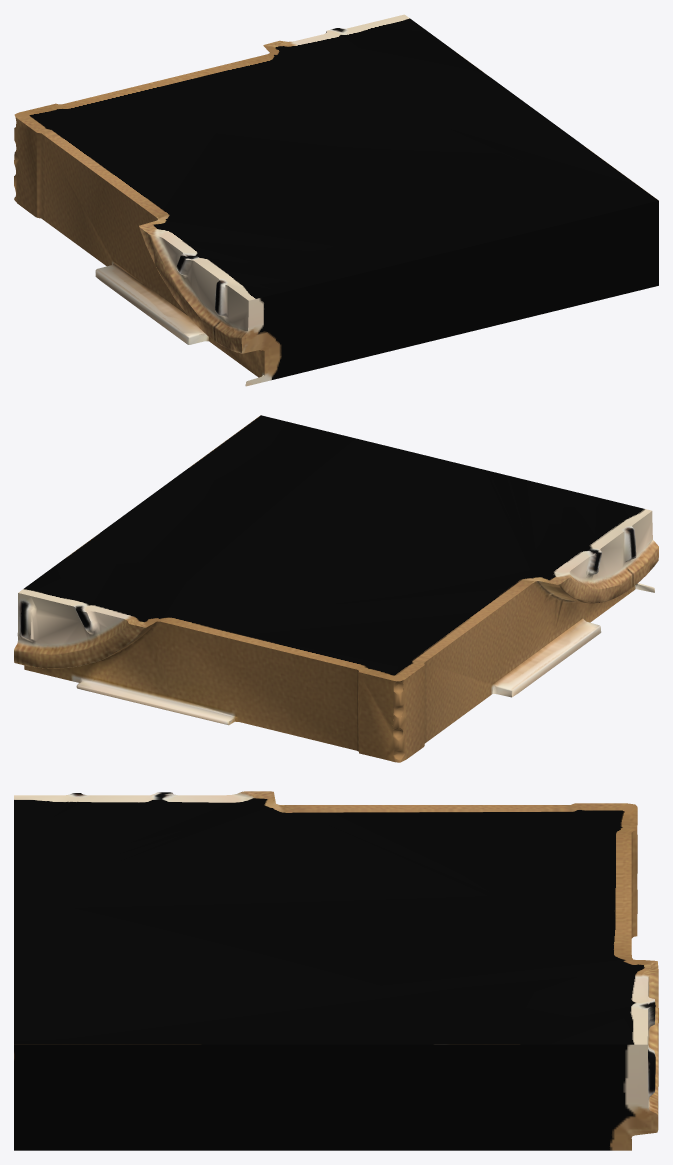
Rendered from 11-roof-back-left.fbx.
The picture shows the model from 3 angles, top to bottom: view 1: azimuth 30°, elevation 25°; view 2: azimuth 150°, elevation 25°; view 3: azimuth 270°, elevation 25°; orthographic projection. The views are drawn at different scales.
Visible parts, largest first — view 1: roof-back-left; view 2: roof-back-left; view 3: roof-back-left.
Part boxes in pixels (x1,y1,x2,y2): roof-back-left: (14,14,658,386); roof-back-left: (14,415,658,762); roof-back-left: (14,791,658,1150).
Size of the model in its own units: 4891 by 952 by 5251.
Materials: 1 (1 with a texture image).
